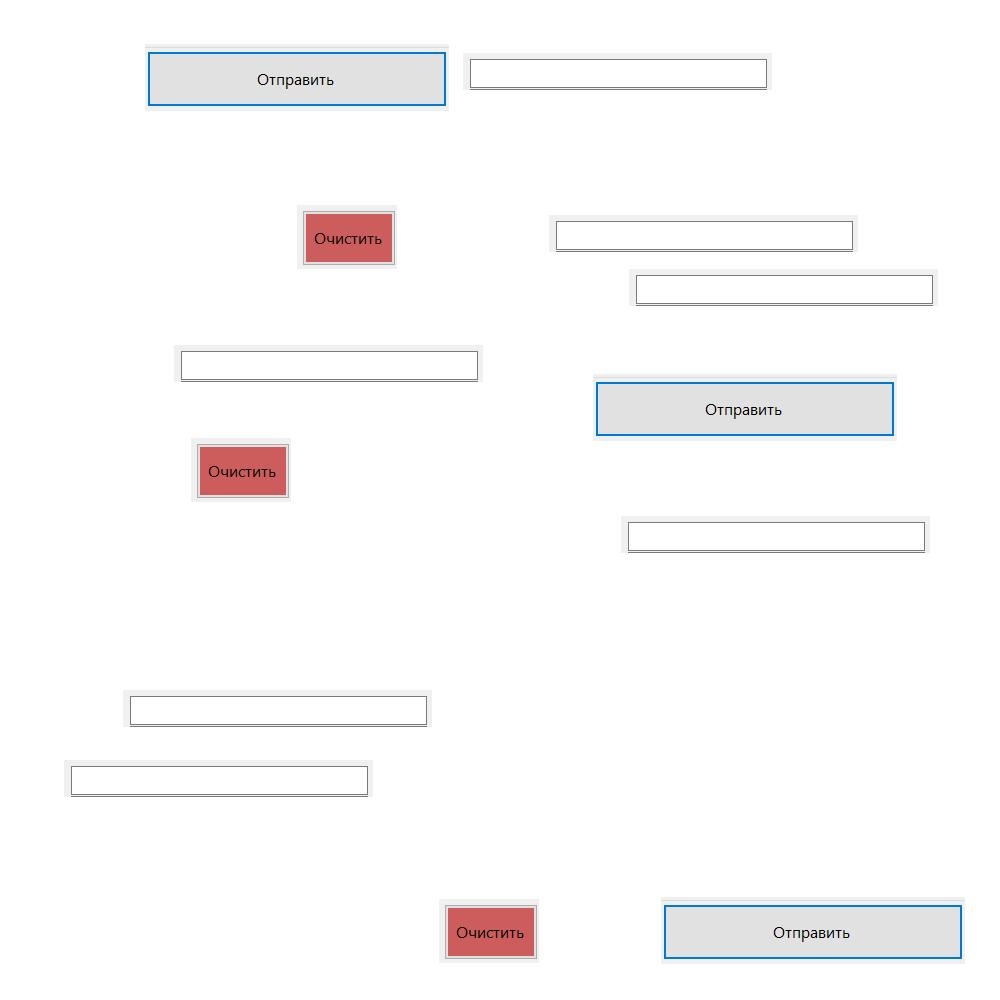Button: (145, 44, 449, 111), (661, 897, 965, 964), (593, 374, 897, 441), (191, 438, 291, 502), (297, 205, 397, 269), (439, 899, 539, 963)
EditText-: (64, 760, 373, 797), (174, 345, 483, 382), (123, 690, 432, 727), (549, 215, 858, 252), (629, 269, 938, 306), (463, 53, 772, 90), (621, 516, 930, 553)
